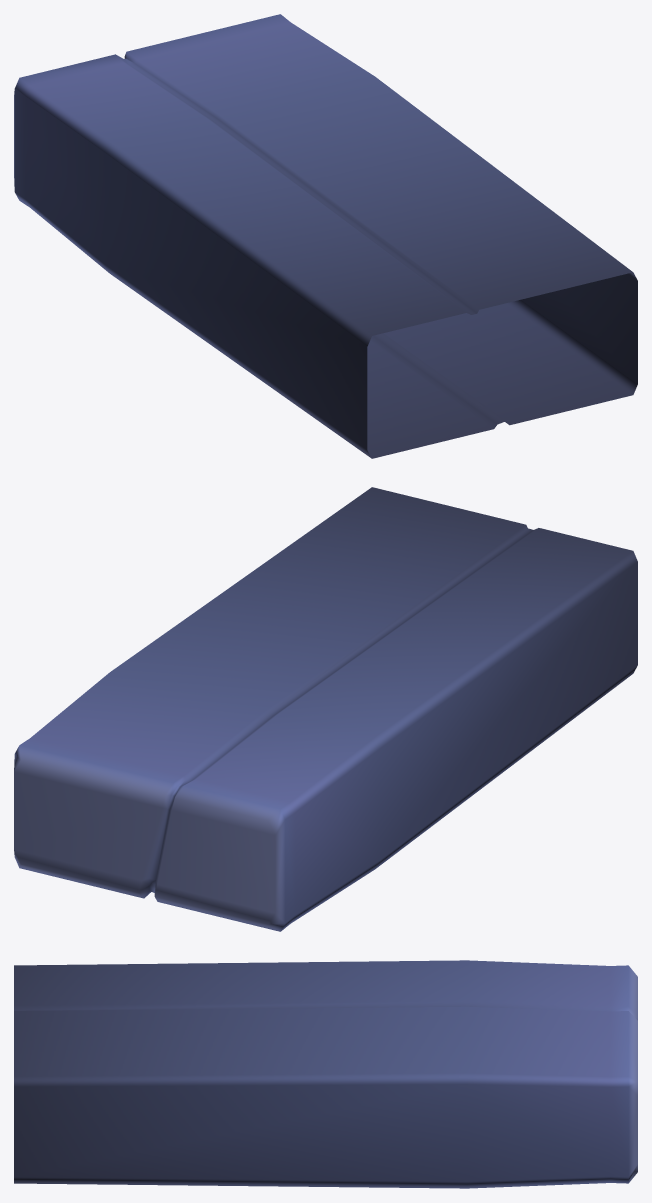
File: GetTest.fbx
3 views of the same model, one above another, from view 1: azimuth 30°, elevation 25°; view 2: azimuth 150°, elevation 25°; view 3: azimuth 270°, elevation 25° (orthographic). The views are drawn at different scales.
Parts seen in each view (by area): view 1: Cliff_Long_02; view 2: Cliff_Long_02; view 3: Cliff_Long_02.
Boxes of the visible parts, x1,y1,x2,y2 form: Cliff_Long_02: (14, 14, 637, 458); Cliff_Long_02: (14, 487, 637, 931); Cliff_Long_02: (14, 960, 637, 1188).
Size of the model in its own units: 593 by 273 by 1336.
